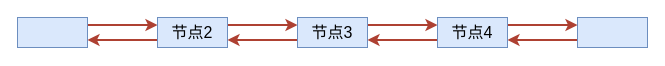
Some shapes in this 665 by 66 pixel diagram are drawn without their labels. The shapes that lost their labels are listed below. From the top down, each one's box as (x1, y1, x2, y2) in pixels, then its label:
(16, 16, 88, 48): 节点1
(576, 16, 648, 48): 节点5
